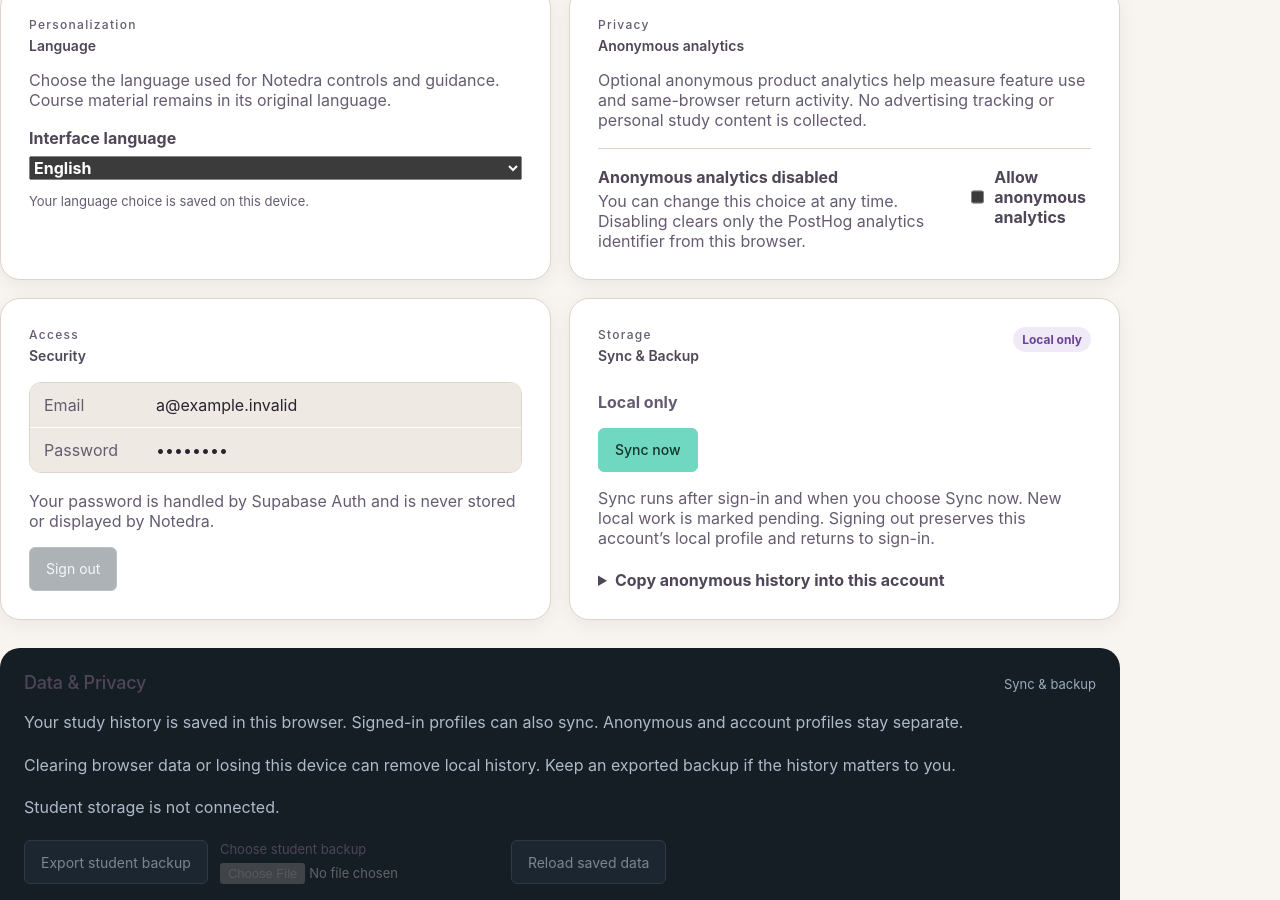
Scenario: sync failure gets focused accessible feedback and never a false success
(page scrolled)
Click the button "Sync now": (648, 450) top-left (598, 428), bottom-right (698, 472)
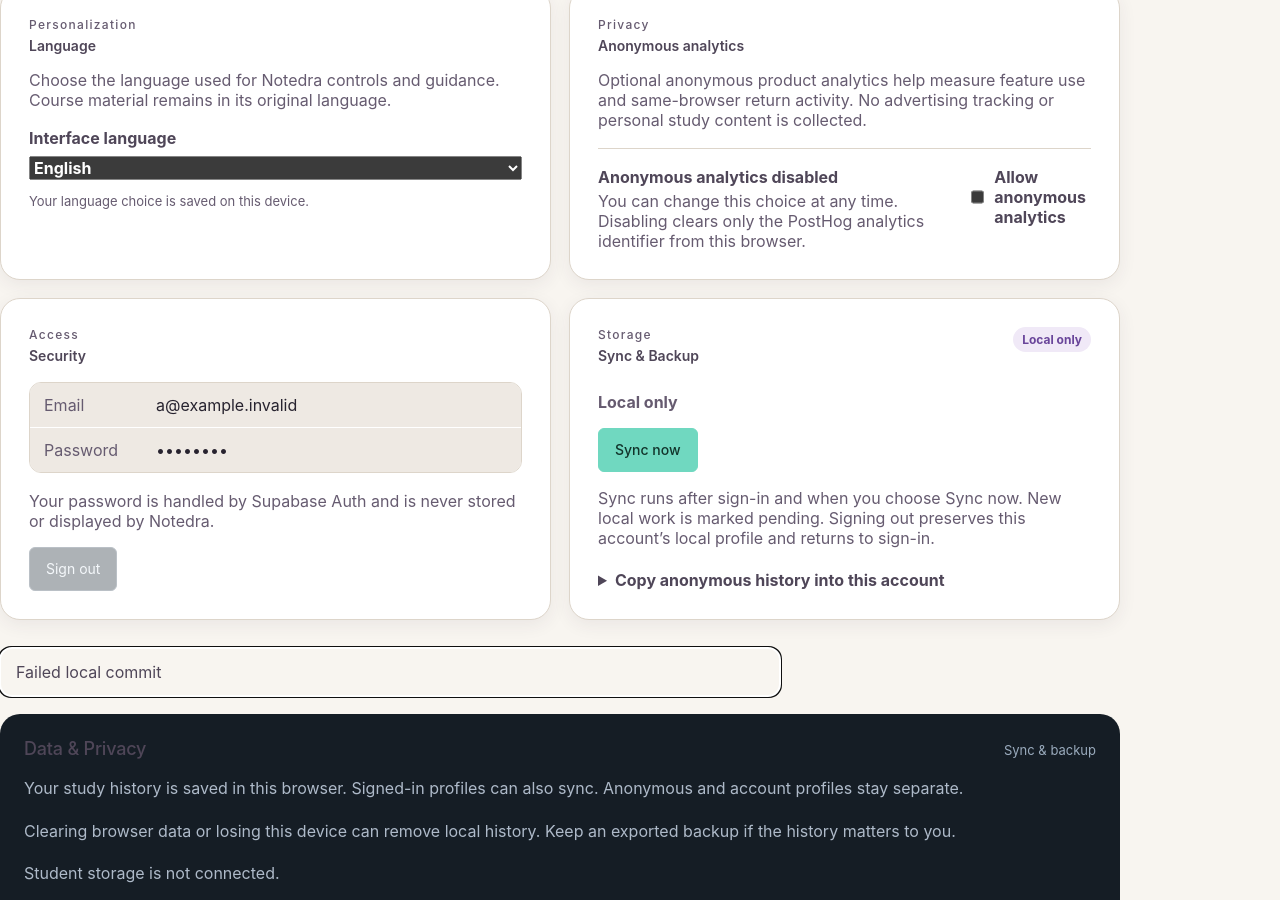
Check: the message "Failed local commit" is shown, box top-left (16, 662), bottom-right (161, 682)
